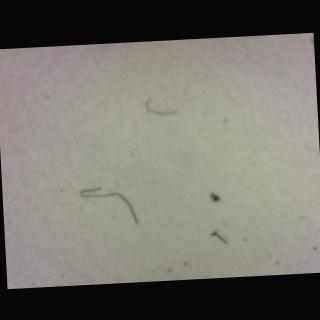Microplastic: (72, 169, 148, 232), (138, 90, 183, 128)
